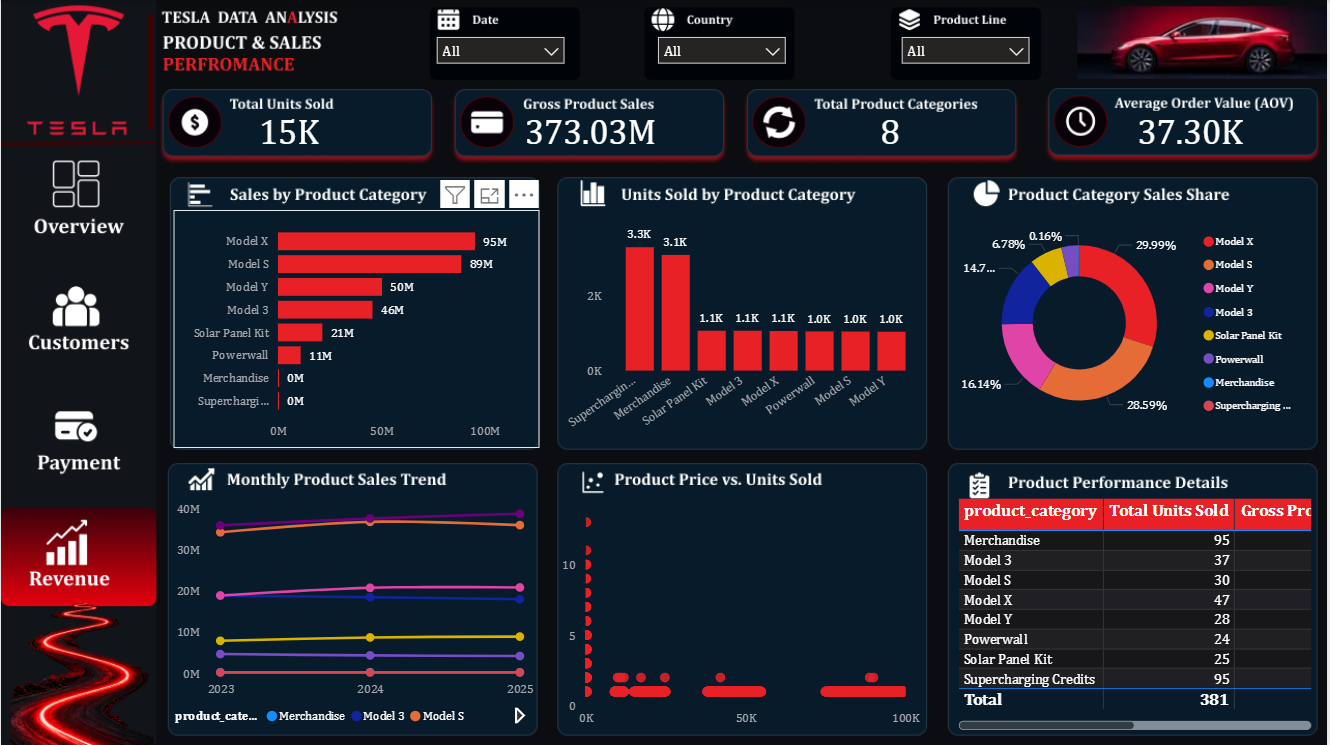

Layout of this report page (visuals, bound fields, positions):
{"tool":"powerbi","page":{"name":"Product & Sales Performance","canvas":[1280,720],"ordinal":3},"visuals":[{"type":"cardVisual","title":"Total Customers","fields":{"Data":["Measure.Total Units Sold"]},"box":[197.9,86.9,160.5,60.3],"z":0},{"type":"cardVisual","title":"Total Customers","fields":{"Data":["Measure.Gross Product Sales (USD)"]},"box":[488.6,86.9,160.5,60.3],"z":1},{"type":"cardVisual","title":"Total Customers","fields":{"Data":["Measure.Total Product Categories"]},"box":[778.2,86.9,160.5,60.3],"z":2},{"type":"cardVisual","title":"Total Customers","fields":{"Data":["Measure.Average Order Value (USD)"]},"box":[1067.7,86.9,160.5,60.3],"z":3},{"type":"slicer","fields":{"Values":["public orders.year"]},"box":[410.2,25.3,143.6,41],"z":4},{"type":"slicer","fields":{"Values":["public customers.country"]},"box":[623.7,25.3,143.6,41],"z":5},{"type":"slicer","fields":{"Values":["public orders.product_category"]},"box":[859,25.3,143.6,41],"z":6},{"type":"clusteredBarChart","title":"Revenue By Product Line","fields":{"Category":["public orders.product_category"],"Y":["Measure.Gross Product Sales (USD)"]},"box":[166.5,202.7,353.5,229.2],"z":7},{"type":"clusteredColumnChart","title":"Revenue By Product Line","fields":{"Category":["public orders.product_category"],"Y":["Measure.Total Units Sold"]},"box":[539.3,202.7,353.5,229.2],"z":8},{"type":"donutChart","title":"Membership Tier Distribution","fields":{"Category":["public orders.product_category"],"Y":["Measure.Gross Product Sales (USD)"]},"box":[916.9,191.8,351.1,240.1],"z":9},{"type":"lineChart","title":"Quarterly Paid Revenue Trend","fields":{"Category":["public orders.Date Hierarchy.year"],"Y":["Measure.Gross Product Sales (USD)"],"Series":["public orders.product_category"]},"box":[162.9,476.5,357.1,232.8],"z":10},{"type":"scatterChart","title":"Quarterly Paid Revenue Trend","fields":{"Y":["Measure.Total Units Sold"],"X":["public orders.unit_price_usd"]},"box":[535.7,476.5,357.1,232.8],"z":11},{"type":"tableEx","title":"Top 10 Customers by Gross LTV","fields":{"Values":["public orders.product_category","Measure.Total Units Sold","Measure.Gross Product Sales (USD)","Measure.Average Selling Price (USD)"]},"box":[918.1,476.5,351.1,232.8],"z":12},{"type":"actionButton","box":[0,141.4,149.6,95.3],"z":13},{"type":"actionButton","box":[0,265.7,149.6,95.3],"z":14},{"type":"actionButton","box":[0,382.7,149.6,95.3],"z":15},{"type":"actionButton","box":[0,487.4,149.6,95.3],"z":16}]}

Visuals, with their boxes in screenshot pixels (x1, y1, x2, y2), scaled from the page's 1280x720 canvas onto the 1330x745 screenshot:
"Total Customers" cardVisual: BBox(206, 90, 372, 152)
"Total Customers" cardVisual: BBox(508, 90, 674, 152)
"Total Customers" cardVisual: BBox(809, 90, 975, 152)
"Total Customers" cardVisual: BBox(1109, 90, 1276, 152)
slicer - public orders.year: BBox(426, 26, 575, 69)
slicer - public customers.country: BBox(648, 26, 797, 69)
slicer - public orders.product_category: BBox(893, 26, 1042, 69)
"Revenue By Product Line" clusteredBarChart: BBox(173, 210, 540, 447)
"Revenue By Product Line" clusteredColumnChart: BBox(560, 210, 928, 447)
"Membership Tier Distribution" donutChart: BBox(953, 198, 1318, 447)
"Quarterly Paid Revenue Trend" lineChart: BBox(169, 493, 540, 734)
"Quarterly Paid Revenue Trend" scatterChart: BBox(557, 493, 928, 734)
"Top 10 Customers by Gross LTV" tableEx: BBox(954, 493, 1319, 734)
actionButton: BBox(0, 146, 155, 245)
actionButton: BBox(0, 275, 155, 374)
actionButton: BBox(0, 396, 155, 495)
actionButton: BBox(0, 504, 155, 603)
